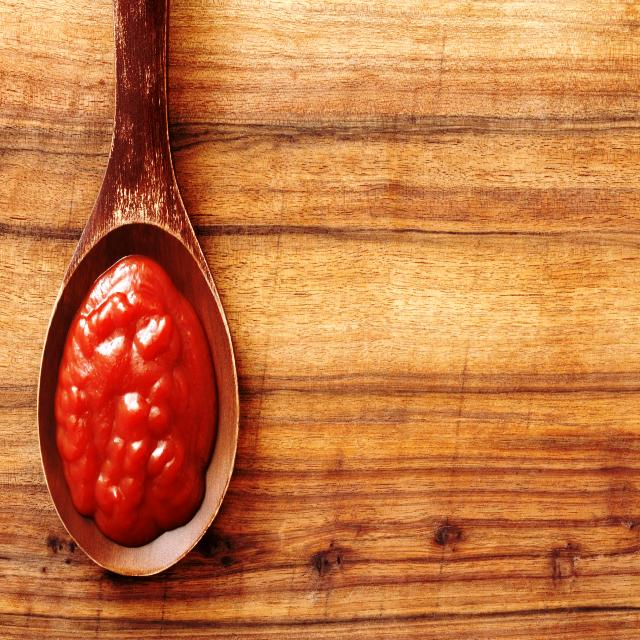ketchup: (54, 250, 218, 552)
